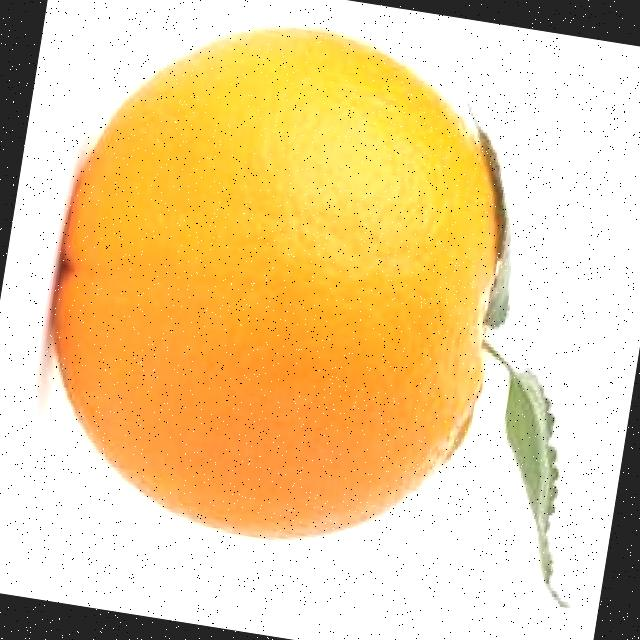Ripe: (9, 0, 545, 575)
